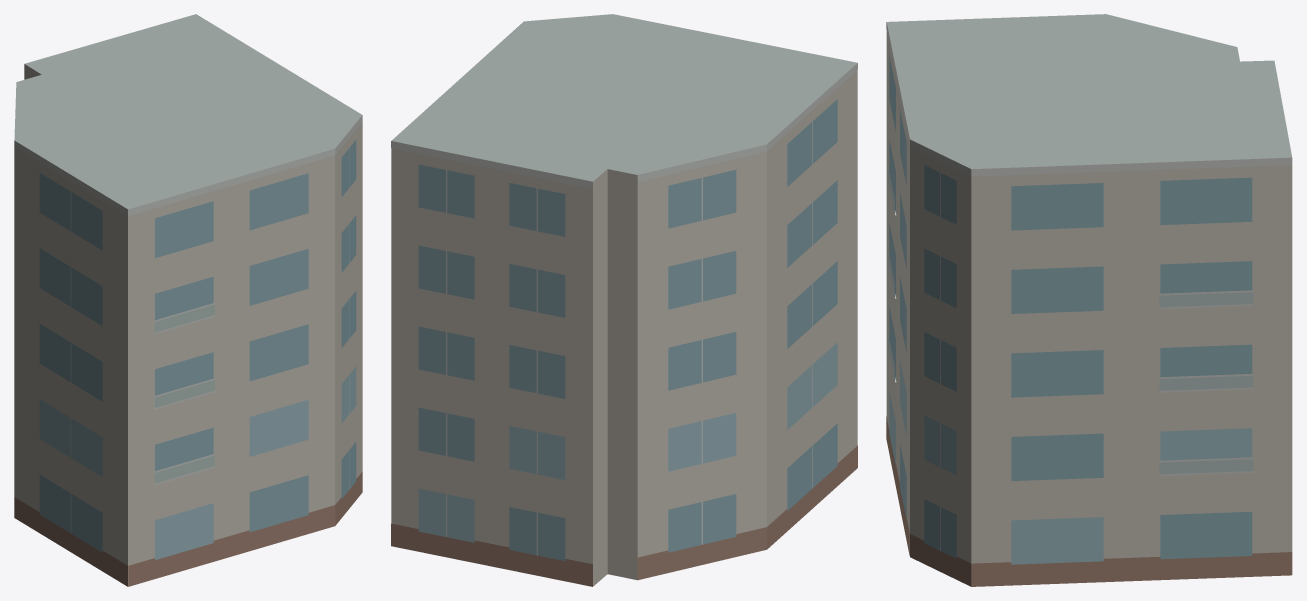
The model's file is survey-upis-32702436.glb.
The picture shows the model from 3 angles, left to right: view 1: azimuth 30°, elevation 25°; view 2: azimuth 150°, elevation 25°; view 3: azimuth 270°, elevation 25°; orthographic projection. The views are drawn at different scales.
Visible parts, largest first — view 1: survey-upis-32702436.tmp; view 2: survey-upis-32702436.tmp; view 3: survey-upis-32702436.tmp.
Boxes of the visible parts, x1,y1,x2,y2 form: survey-upis-32702436.tmp: (14, 14, 362, 586); survey-upis-32702436.tmp: (391, 14, 857, 586); survey-upis-32702436.tmp: (886, 14, 1292, 586).
Size of the model in its own units: 11 by 13.8 by 12.16.
